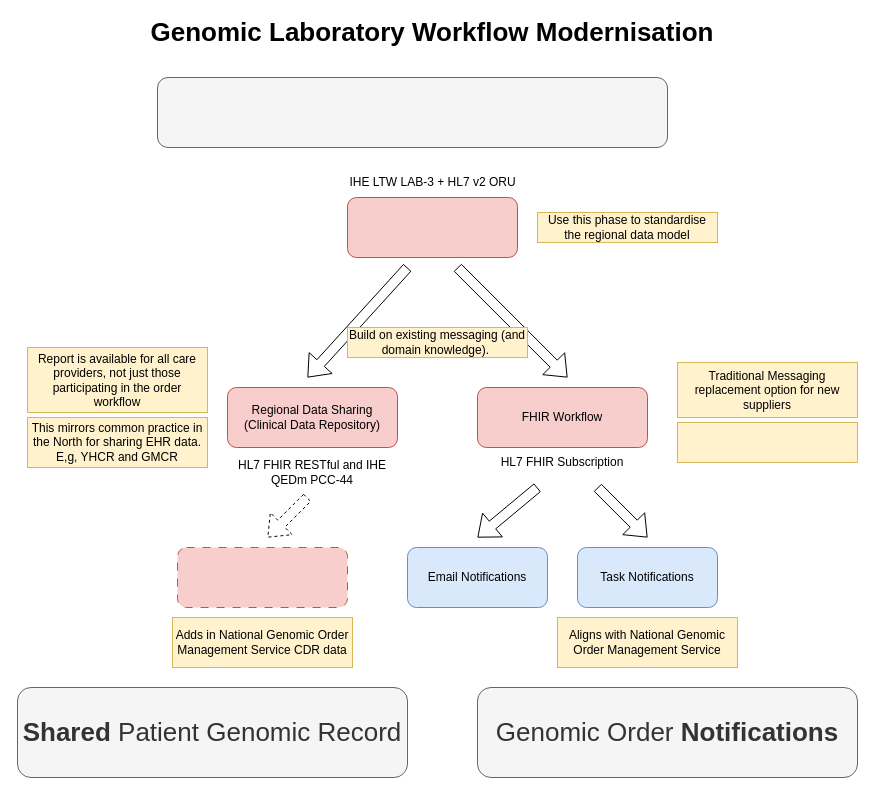
The diagram is 875 pixels wide and 795 high, and some of its shapes have lost their labels. Here are the shapes that lost their labels. From the top down, the centre of each, then its label:
[412,112]: Traditional Send Genomic Order/ Report
[432,227]: Traditional Messaging + Workflow
[767,442]: More alignment to clinical workflow
[262,577]: National Data Sharing (Health Information Exchange)
